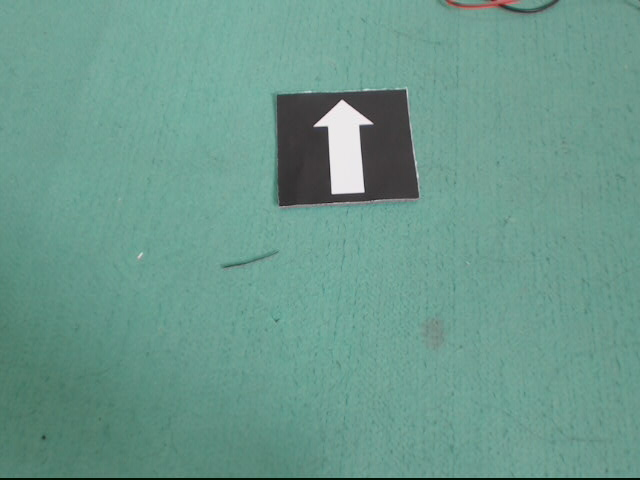straight: (274, 89, 422, 208)
